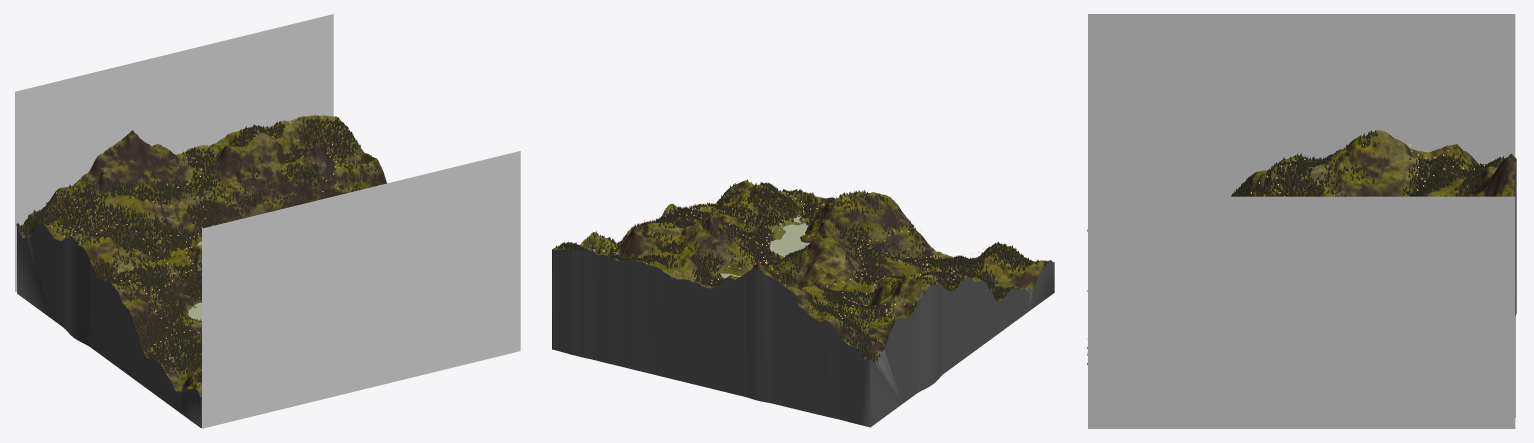
3 renders of one model, left to right at view 1: azimuth 30°, elevation 25°; view 2: azimuth 150°, elevation 25°; view 3: azimuth 270°, elevation 25°, orthographic. The views are drawn at different scales.
Parts seen in each view (by area): view 1: walls, landscape gltf, trees light, landscape borders; view 2: landscape borders, landscape gltf, trees light, water; view 3: walls, landscape gltf, trees light.
Part boxes in pixels (x1=…): walls: x1=15, y1=14, x2=520, y2=428; landscape gltf: x1=17, y1=115, x2=386, y2=397; trees light: x1=16, y1=115, x2=384, y2=386; landscape borders: x1=17, y1=115, x2=326, y2=428; landscape borders: x1=552, y1=191, x2=1054, y2=427; landscape gltf: x1=552, y1=180, x2=1048, y2=363; trees light: x1=555, y1=179, x2=1039, y2=363; water: x1=720, y1=216, x2=809, y2=278; walls: x1=1088, y1=14, x2=1515, y2=428; landscape gltf: x1=1233, y1=130, x2=1516, y2=296; trees light: x1=1087, y1=130, x2=1504, y2=364.
Size of the model in its own units: 10.13 by 6 by 10.15.
5 materials, 1 textured.
